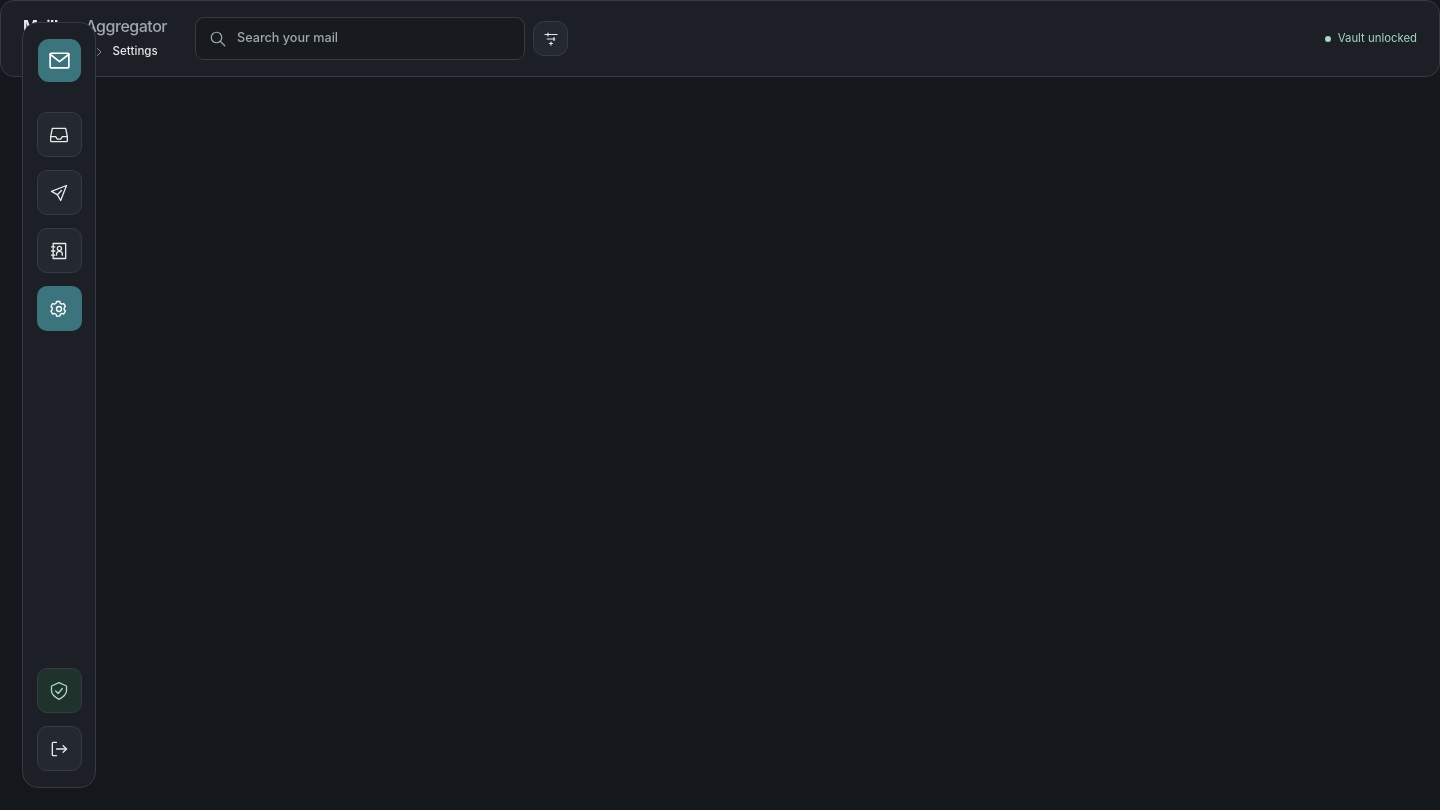
Test: mail search header › opens mail filters from any workspace page and disables search when locked
Step 1. Click the button named "Filter mail" → x=550, y=39, box [533, 21, 568, 56]
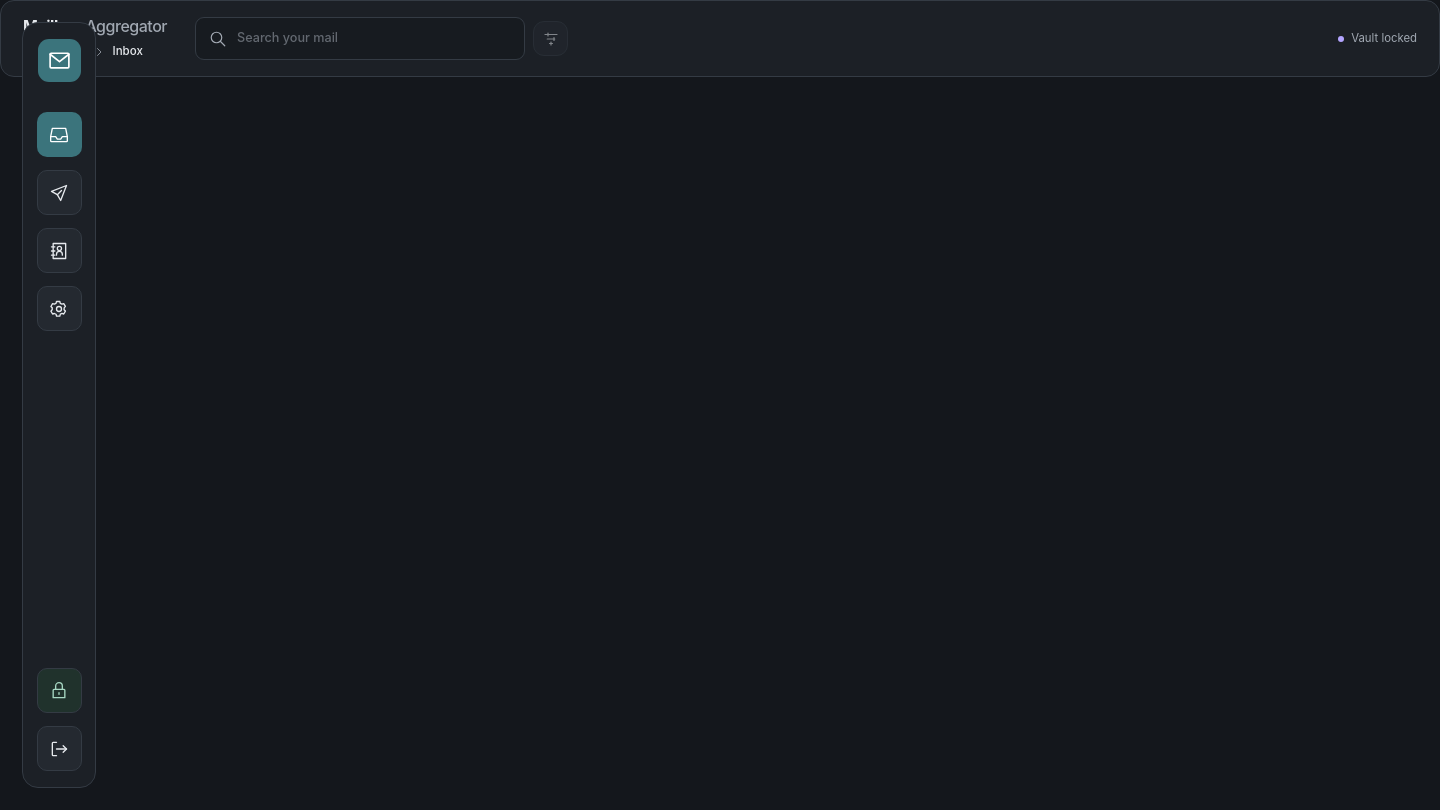
Now the search field with placeholder "Search your mail" is disabled, box [237, 18, 511, 59]
Now the button named "Filter mail" is disabled, box [533, 21, 568, 56]
